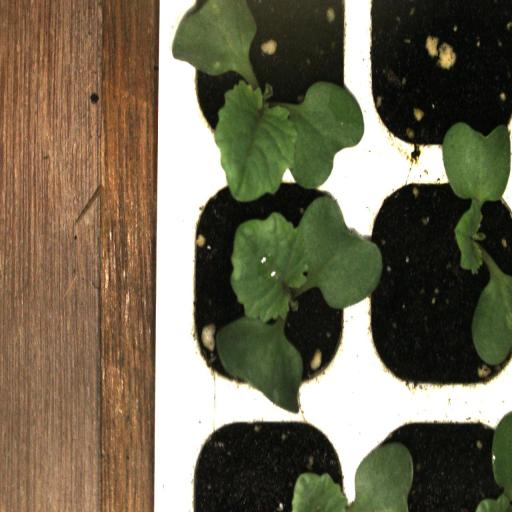seedling: (178, 174, 360, 398), (361, 172, 512, 394), (177, 4, 363, 173)
